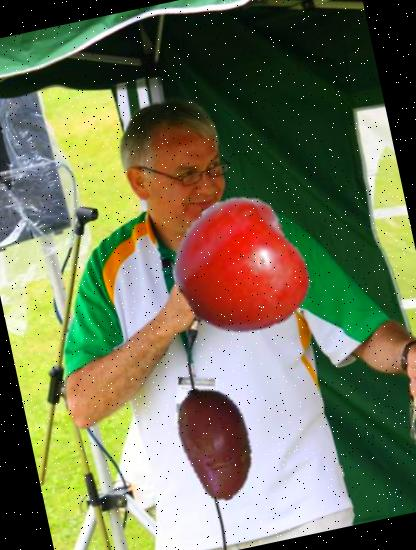Cherry: (157, 189, 319, 351)
Potato: (147, 374, 286, 513)
